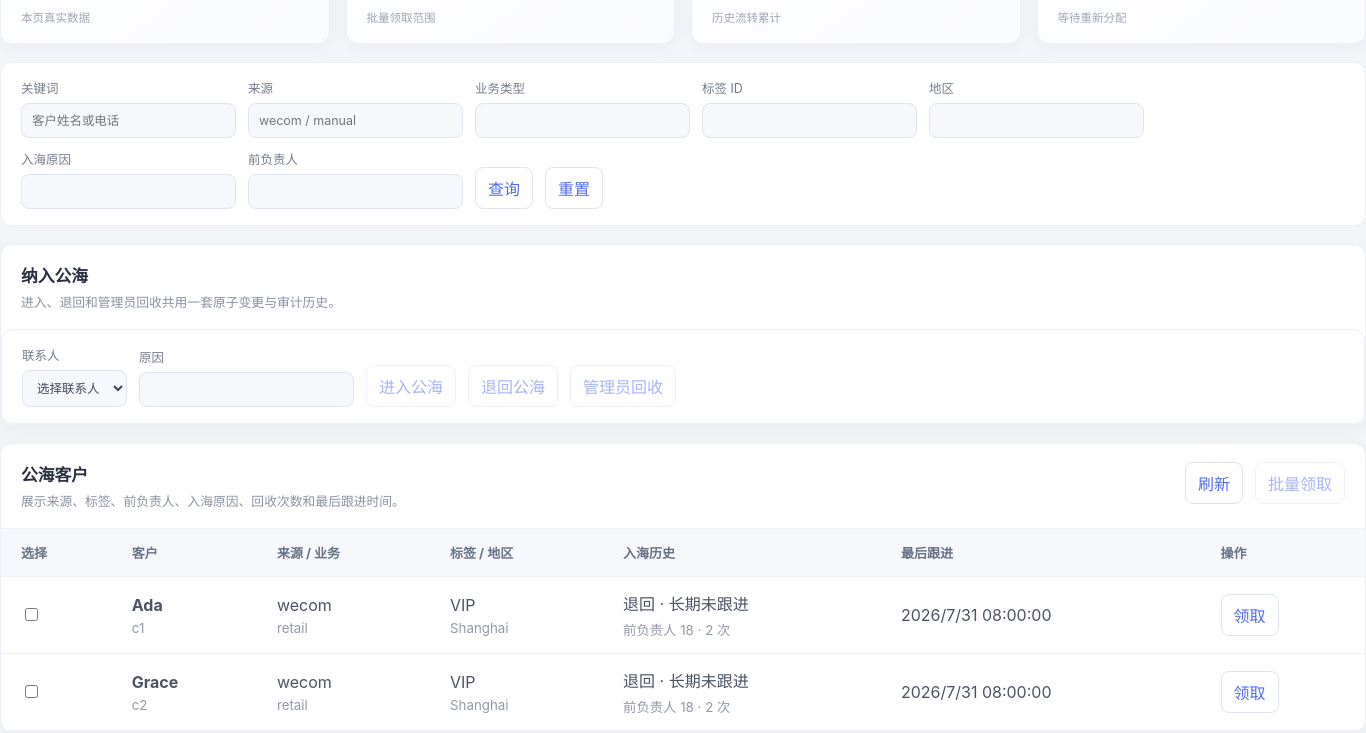
Scenario: PublicPoolPage › claims with the complete command and reports per-item batch partial failure
The width and height of the screenshot is (1366, 733).
(page scrolled)
Step 1. Click the button with aria-label "领取 Ada" → (1250, 615), box [1221,594,1279,636]
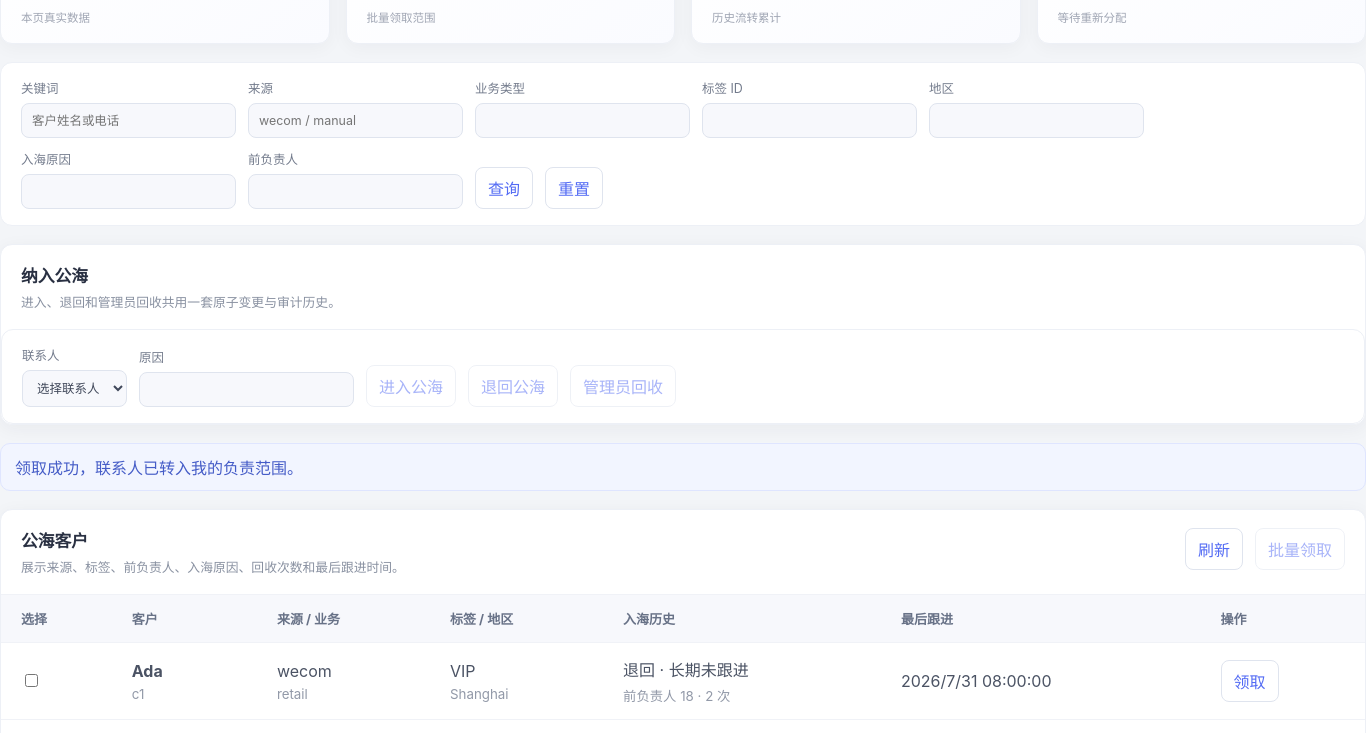
Step 2. Click the checkbox named "选择 Ada" → (32, 680), box [25,674,38,687]
(page scrolled)
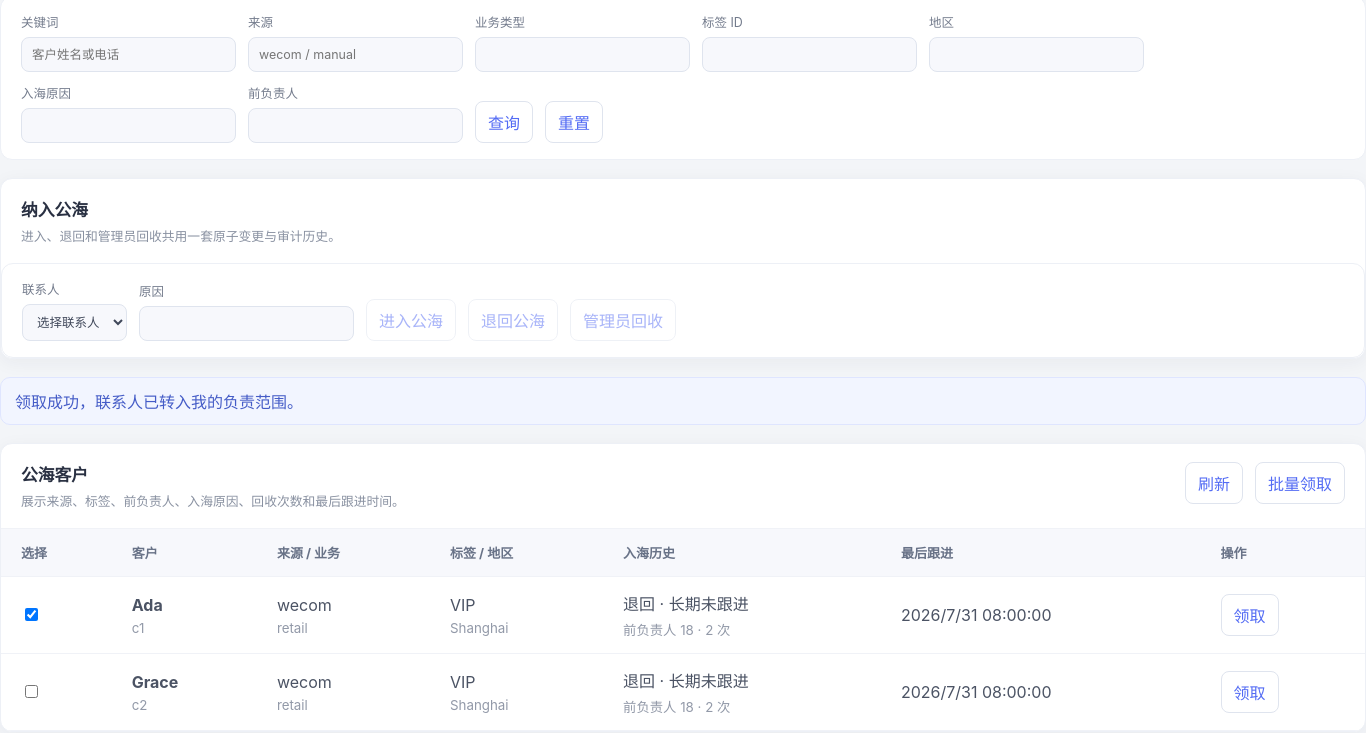
Step 3. Click the checkbox named "选择 Grace" → (32, 692), box [25,685,38,698]
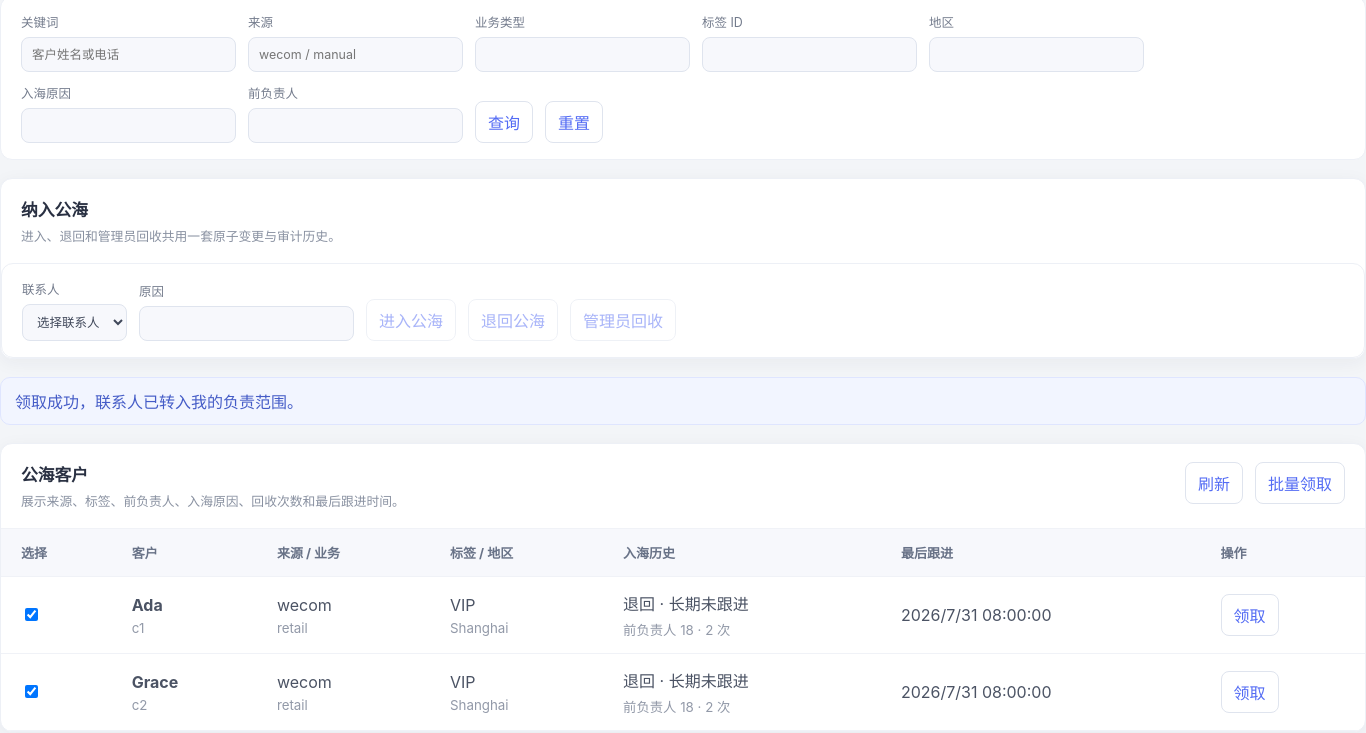
Step 4. Click the button "批量领取" → (1300, 483), box [1255,462,1345,504]
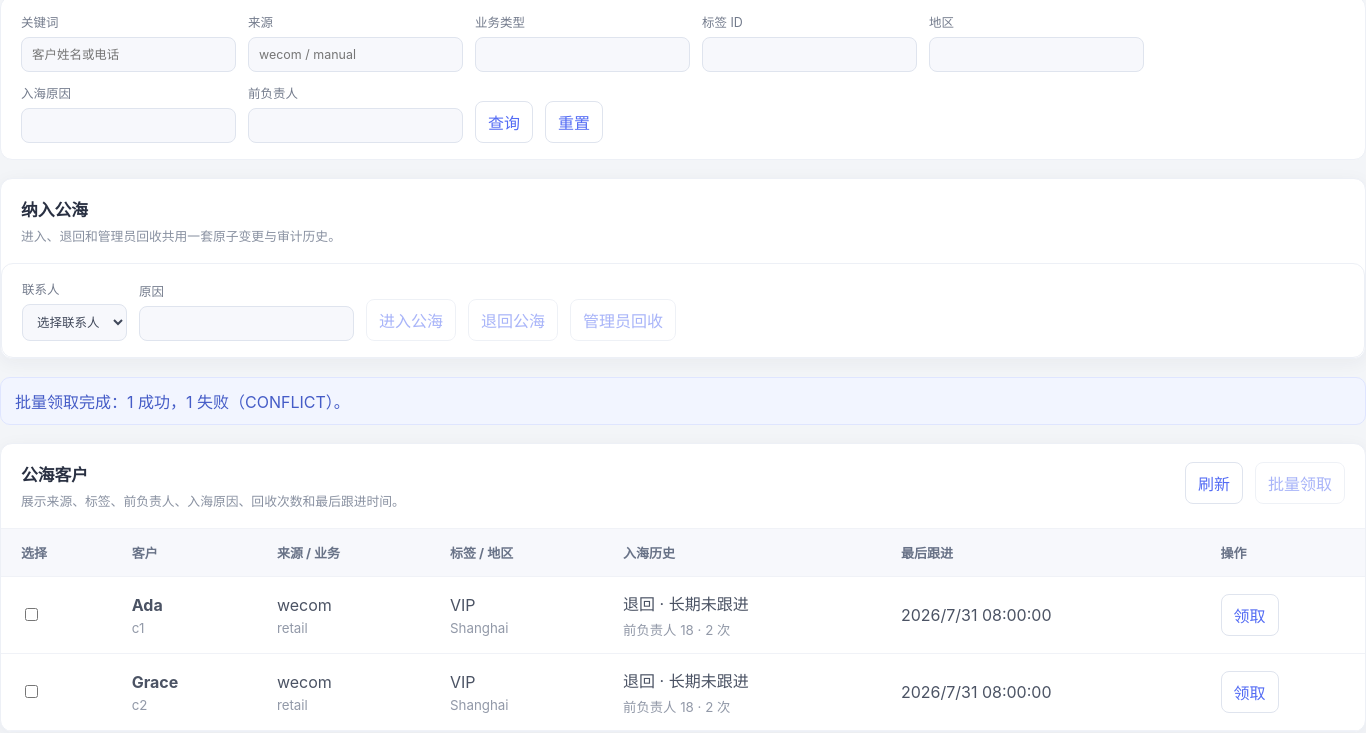
Expected: the text "批量领取完成：1 成功，1 失败（CONFLICT）。" is shown, [0,377,1365,425]
